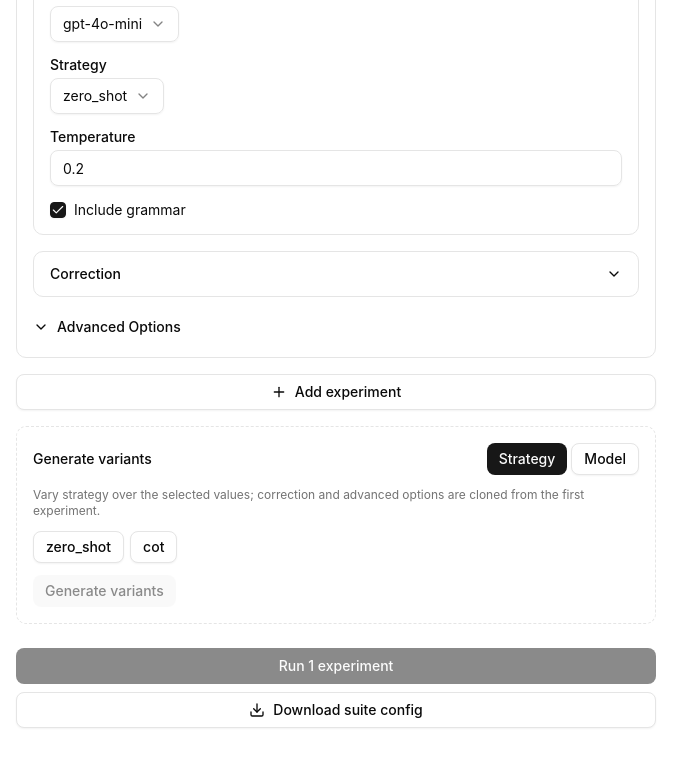
it: ExperimentsPage › shows an error alert when the export fails
(page scrolled)
Click the button "Download suite config": (336, 710) top-left (16, 692), bottom-right (656, 728)
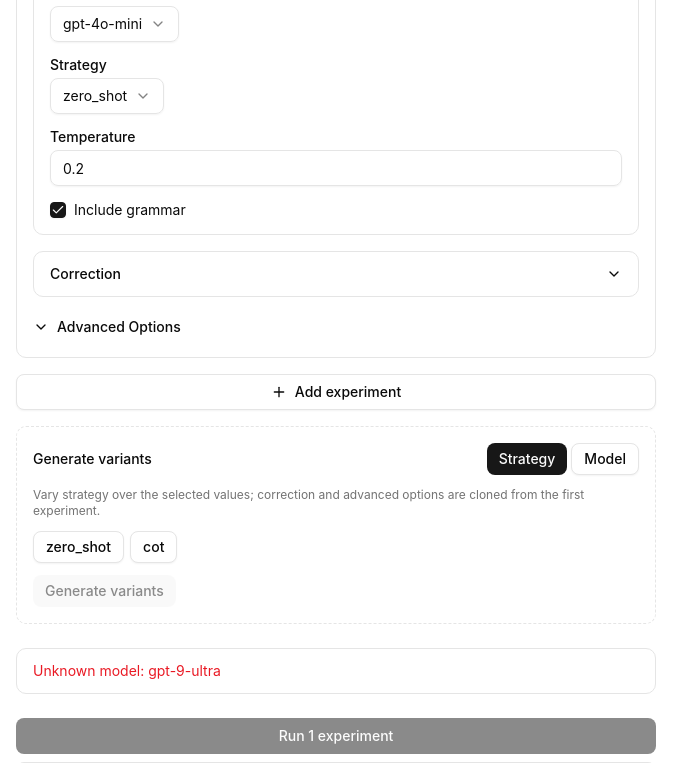
Result: the text "Unknown model: gpt-9-ultra" is shown at top-left (33, 662), bottom-right (221, 679)
